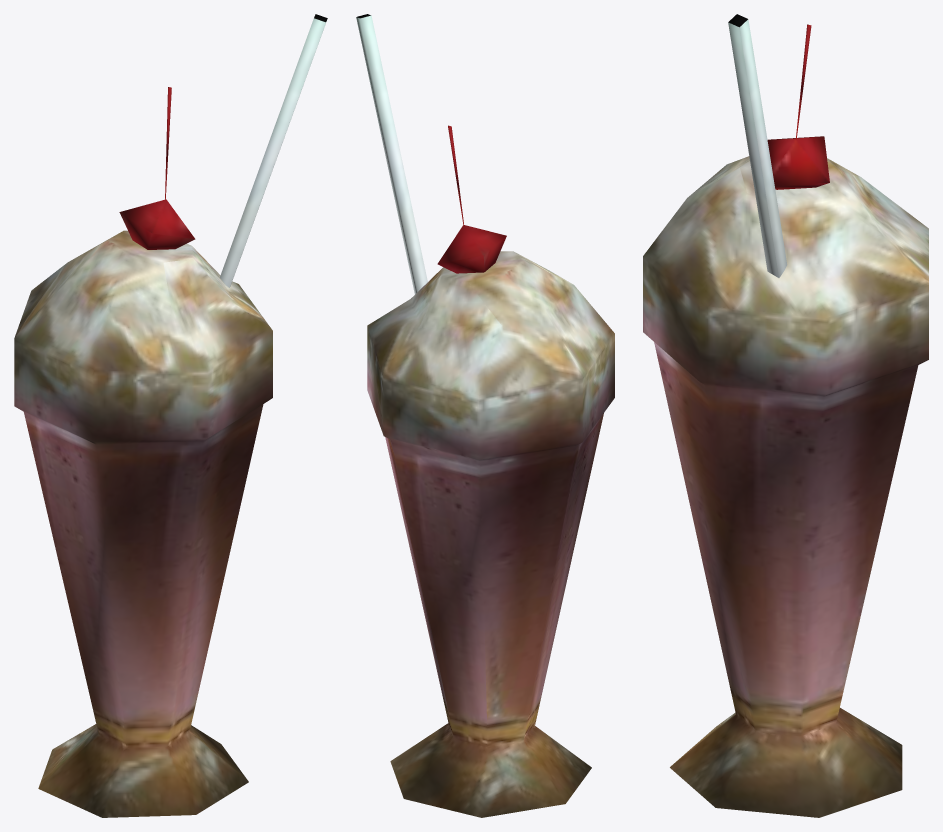
The model's file is Milk_shake.dae.
3 renders of one model, left to right at view 1: azimuth 30°, elevation 25°; view 2: azimuth 150°, elevation 25°; view 3: azimuth 270°, elevation 25°, orthographic. The views are drawn at different scales.
Visible parts, largest first — view 1: Milk_shake; view 2: Milk_shake; view 3: Milk_shake.
Part boxes in pixels (bbox=[...]): Milk_shake: bbox=[14, 14, 327, 817]; Milk_shake: bbox=[356, 14, 614, 817]; Milk_shake: bbox=[643, 14, 928, 817].
Bounding box in the file's own units: 0.142 × 0.1131 × 0.3646.
Materials: 1 (1 with a texture image).
